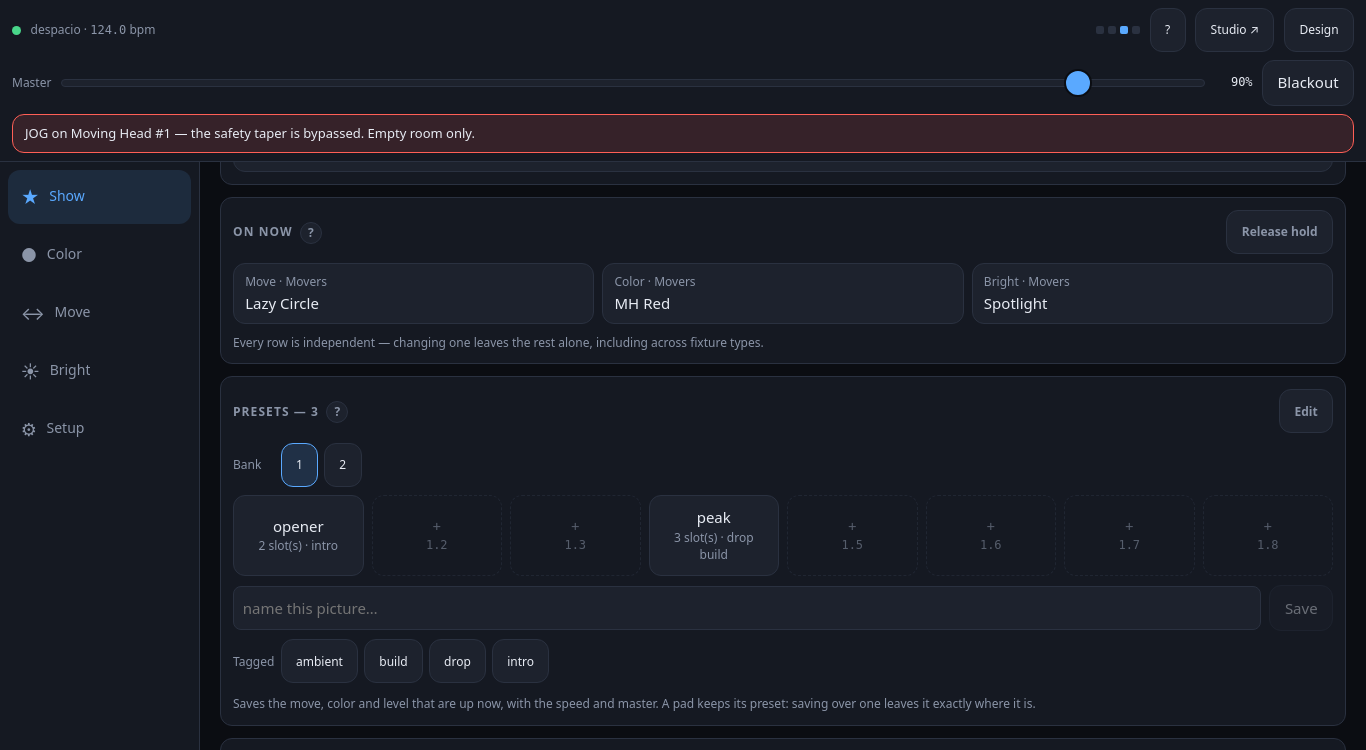
preset banks › turns the page to a second bank
(page scrolled)
Expected: the button "landing" is not shown
Click the button named "bank 2": [343, 465] box x1=324 y1=443 x2=362 y2=487
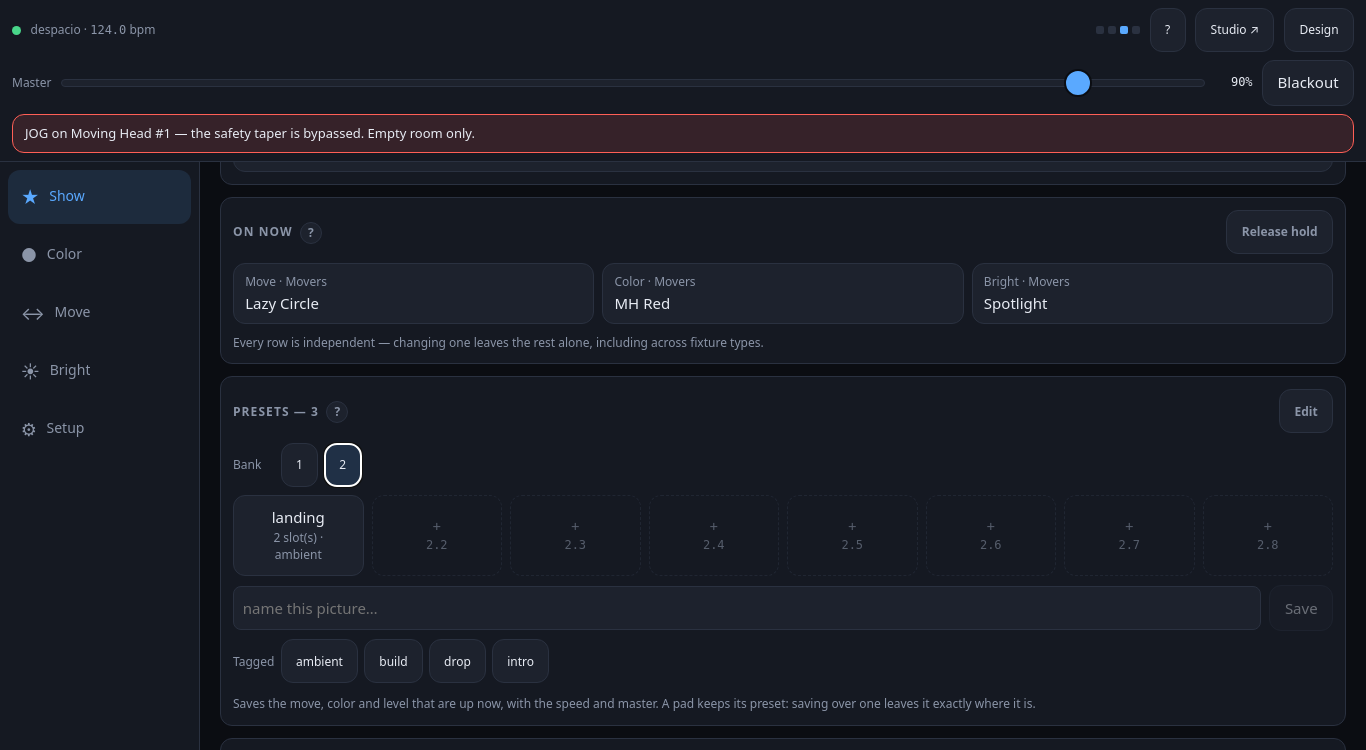
Now the button "landing 2 slot(s) · ambient" is shown, box x1=233 y1=495 x2=364 y2=576
Now the button "peak" is gone
